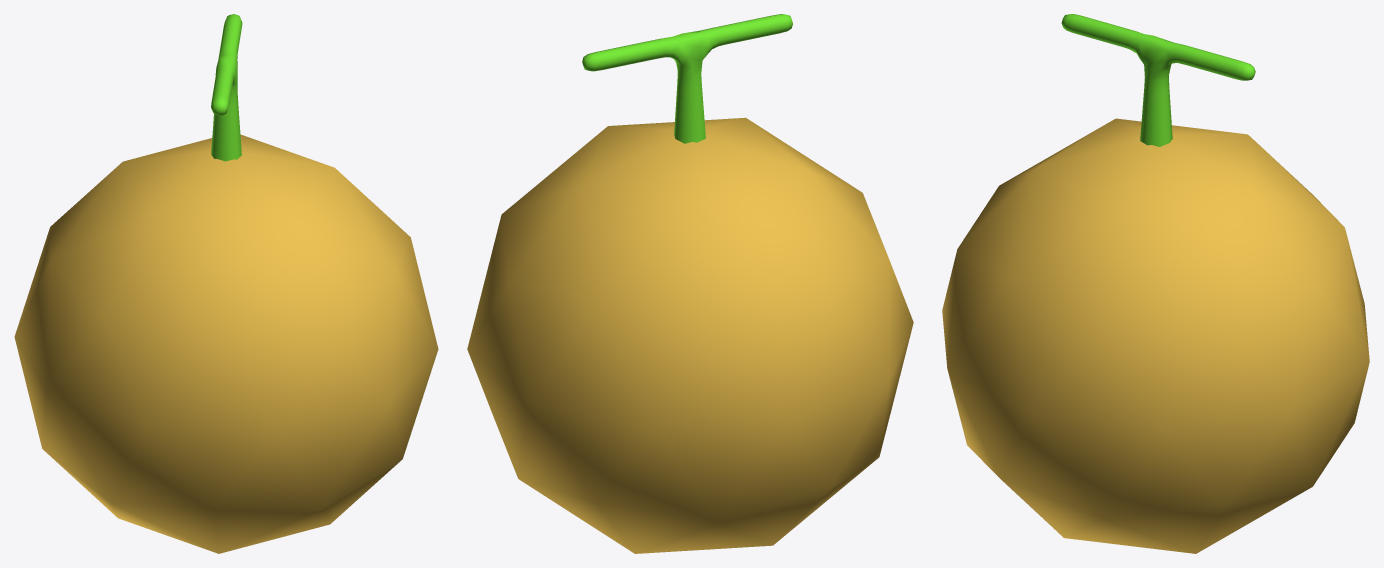
Rendered from Melon.fbx.
The picture shows the model from 3 angles, left to right: view 1: azimuth 30°, elevation 25°; view 2: azimuth 150°, elevation 25°; view 3: azimuth 270°, elevation 25°; orthographic projection. The views are drawn at different scales.
Visible parts, largest first — view 1: melon; view 2: melon; view 3: melon.
Part boxes in pixels (box(x1,y1,x2,y2)): melon: box(14, 14, 438, 553); melon: box(467, 14, 913, 553); melon: box(942, 14, 1369, 553).
Bounding box in the file's own units: 9.99 × 12.4 × 9.62.
